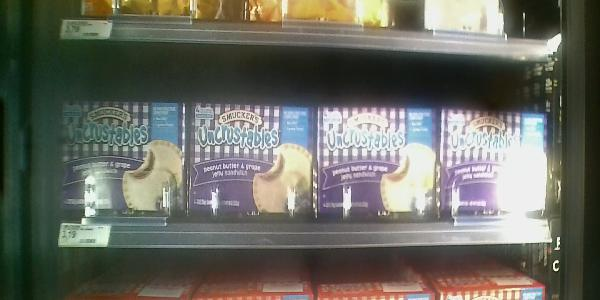icecream: (56, 99, 188, 223), (314, 104, 447, 226), (187, 100, 313, 220), (440, 106, 551, 223)
